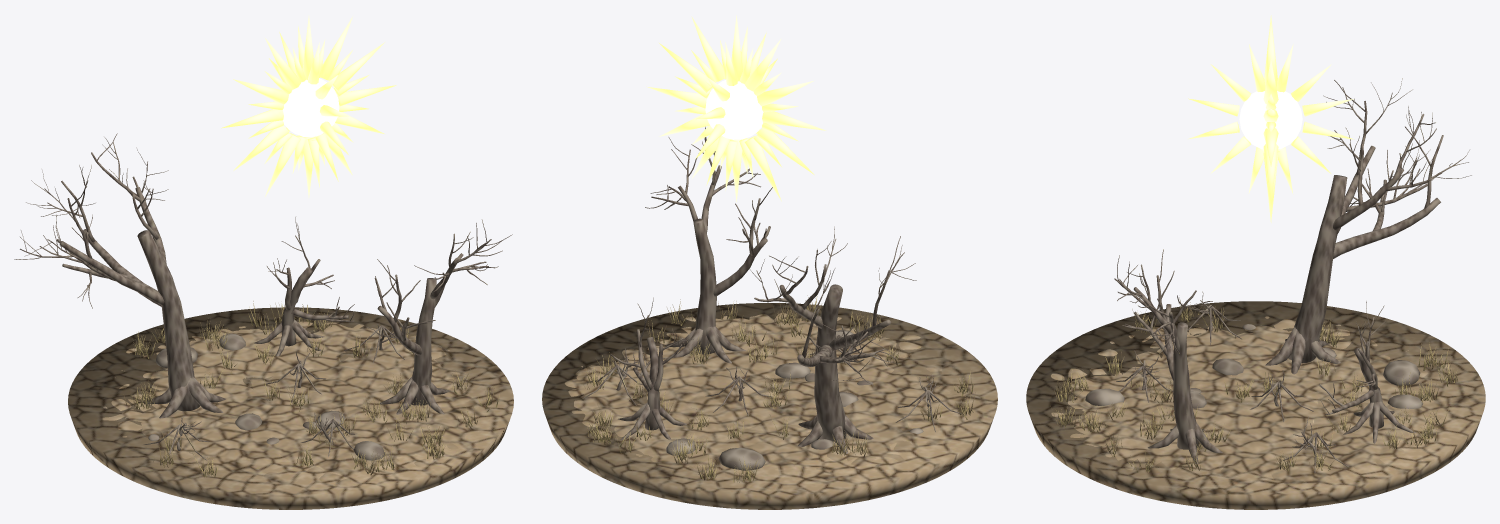
Rendered from weather.glb.
The picture shows the model from 3 angles, left to right: view 1: azimuth 30°, elevation 25°; view 2: azimuth 150°, elevation 25°; view 3: azimuth 270°, elevation 25°; orthographic projection. The views are drawn at different scales.
Parts seen in each view (by area): view 1: AR_weather, SUN.001; view 2: AR_weather, SUN.001; view 3: AR_weather, SUN.001.
Boxes of the visible parts, x1,y1,x2,y2 form: AR_weather: (14,133,513,509); SUN.001: (221,15,396,197); AR_weather: (542,127,997,509); SUN.001: (646,15,826,201); AR_weather: (1026,78,1485,509); SUN.001: (1188,15,1353,222).
Size of the model in its own units: 6.15 by 5.93 by 6.1.
Materials: 1 (1 with a texture image).
